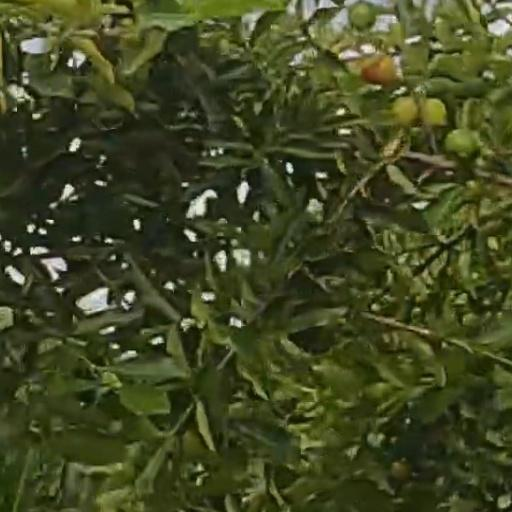acerola_verde: (447, 130, 473, 162), (349, 1, 376, 28), (421, 98, 446, 126), (395, 101, 416, 126)
acerola_vermelha: (362, 56, 395, 84)
